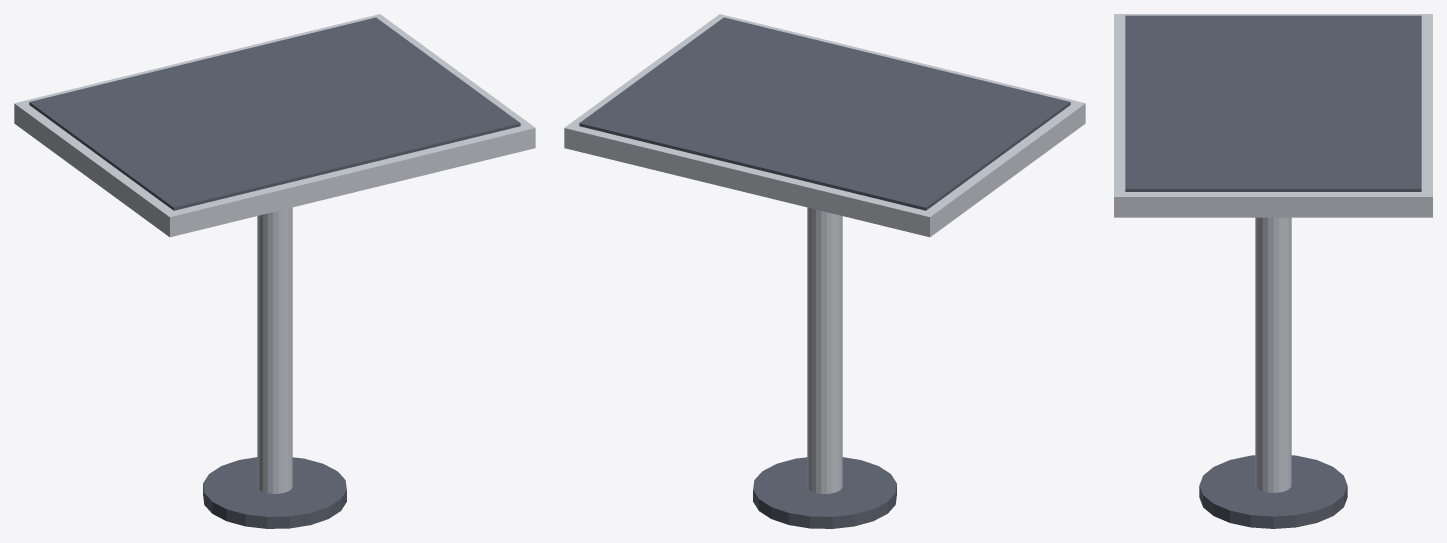
File: wafer-keyboard-tray-2.glb
3 views of the same model, side by side, from view 1: azimuth 30°, elevation 25°; view 2: azimuth 150°, elevation 25°; view 3: azimuth 270°, elevation 25° (orthographic). The views are drawn at different scales.
Visible parts, largest first — view 1: black input surface, silver tray border, silver tray support, black tray foot; view 2: black input surface, silver tray border, silver tray support, black tray foot; view 3: black input surface, silver tray border, silver tray support, black tray foot.
Part boxes in pixels (x1,y1,x2,y2): black input surface: [29, 17, 520, 210]; silver tray border: [14, 14, 535, 237]; silver tray support: [257, 207, 292, 493]; black tray foot: [203, 457, 346, 528]; black input surface: [579, 17, 1070, 210]; silver tray border: [564, 14, 1085, 237]; silver tray support: [807, 207, 842, 493]; black tray foot: [753, 457, 896, 528]; black input surface: [1125, 15, 1421, 191]; silver tray border: [1114, 14, 1432, 217]; silver tray support: [1255, 217, 1291, 492]; black tray foot: [1199, 455, 1347, 528].
Size of the model in its own units: 0.38 by 0.383 by 0.28.
